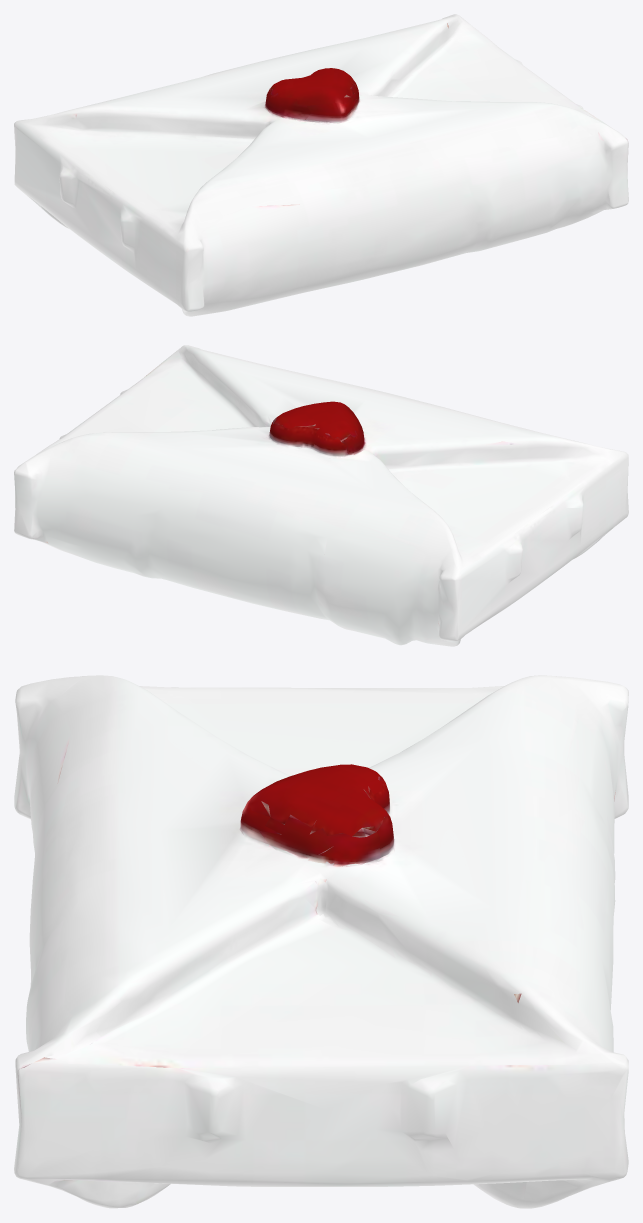
The model's file is sealed-envelope.glb.
3 renders of one model, top to bottom at view 1: azimuth 30°, elevation 25°; view 2: azimuth 150°, elevation 25°; view 3: azimuth 270°, elevation 25°, orthographic. The views are drawn at different scales.
Parts seen in each view (by area): view 1: Mesh_0; view 2: Mesh_0; view 3: Mesh_0.
Part boxes in pixels (bbox=[...]): Mesh_0: bbox=[14, 14, 628, 316]; Mesh_0: bbox=[14, 345, 628, 646]; Mesh_0: bbox=[14, 675, 628, 1208].
Size of the model in its own units: 1.91 by 0.6231 by 1.25.
Materials: 1 (1 with a texture image).
